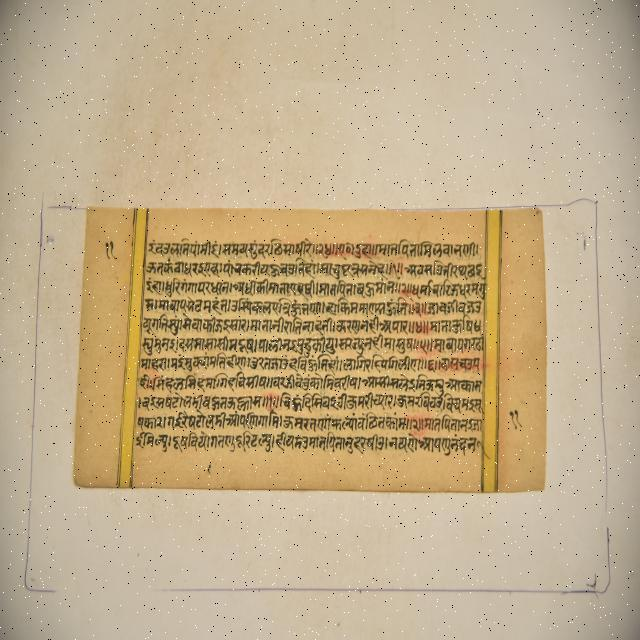text_paragraph: (73, 206, 546, 490)
